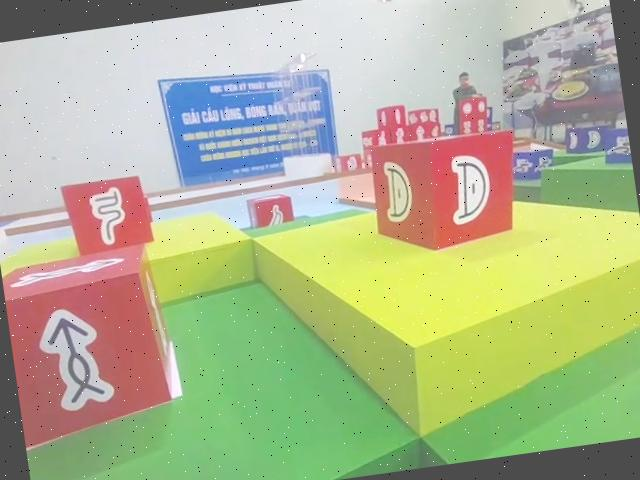R2 Fake: (58, 169, 159, 262)
R2 Real: (1, 243, 189, 456), (364, 122, 528, 258), (245, 192, 297, 233)
